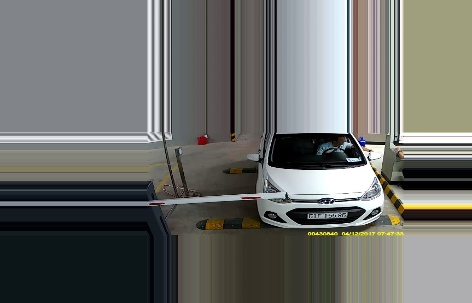plate: (307, 210, 347, 219)
